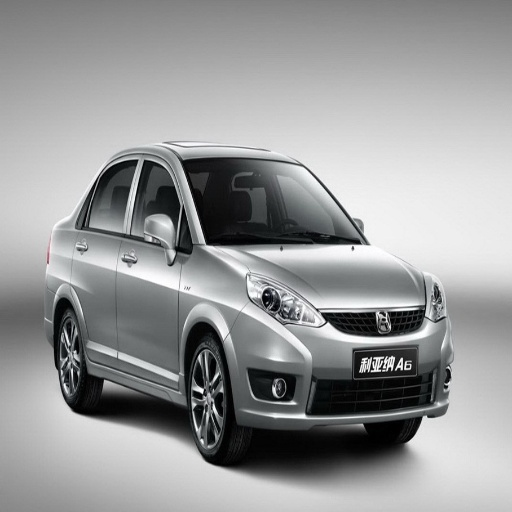front_bumper: (227, 293, 449, 429)
front_right_door: (118, 155, 192, 386)
front_right_light: (247, 273, 323, 325)
